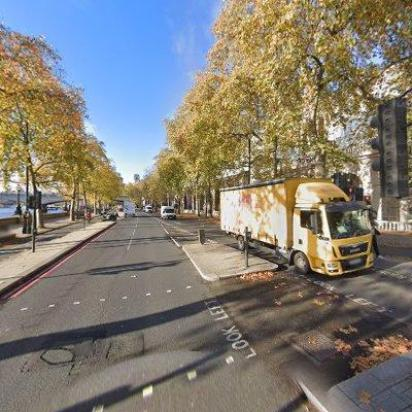moving-heavy-truck: (216, 174, 376, 282)
moving-light-truck: (158, 206, 176, 220), (143, 204, 153, 215)
